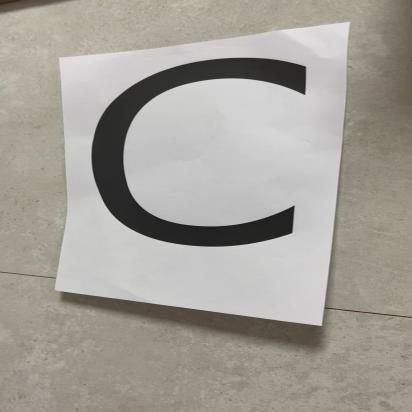seat: (78, 47, 345, 306)
